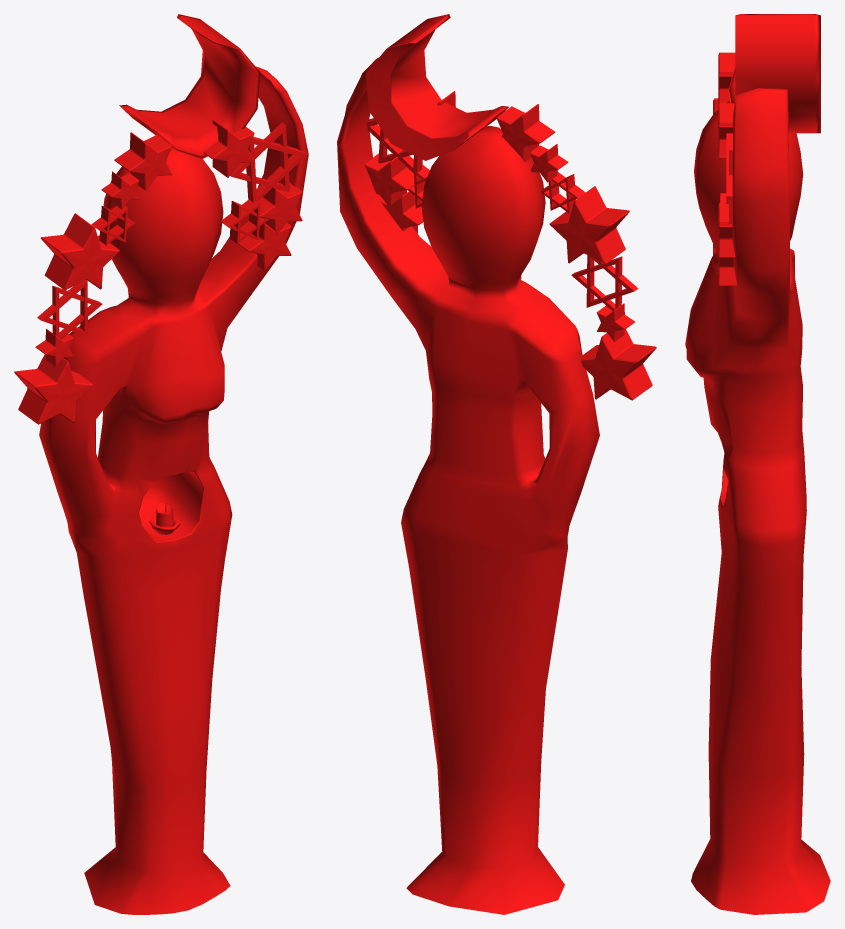
Rendered from Pagan_CandleHolder_Statue_OBJ.obj.
3 renders of one model, left to right at view 1: azimuth 30°, elevation 25°; view 2: azimuth 150°, elevation 25°; view 3: azimuth 270°, elevation 25°, orthographic. The views are drawn at different scales.
Visible parts, largest first — view 1: polySurface67; view 2: polySurface67; view 3: polySurface67.
Part boxes in pixels (x1,y1,x2,y2): polySurface67: (14, 14, 308, 914); polySurface67: (337, 14, 656, 914); polySurface67: (685, 14, 830, 914).
Bounding box in the file's own units: 90.28 × 250 × 37.
